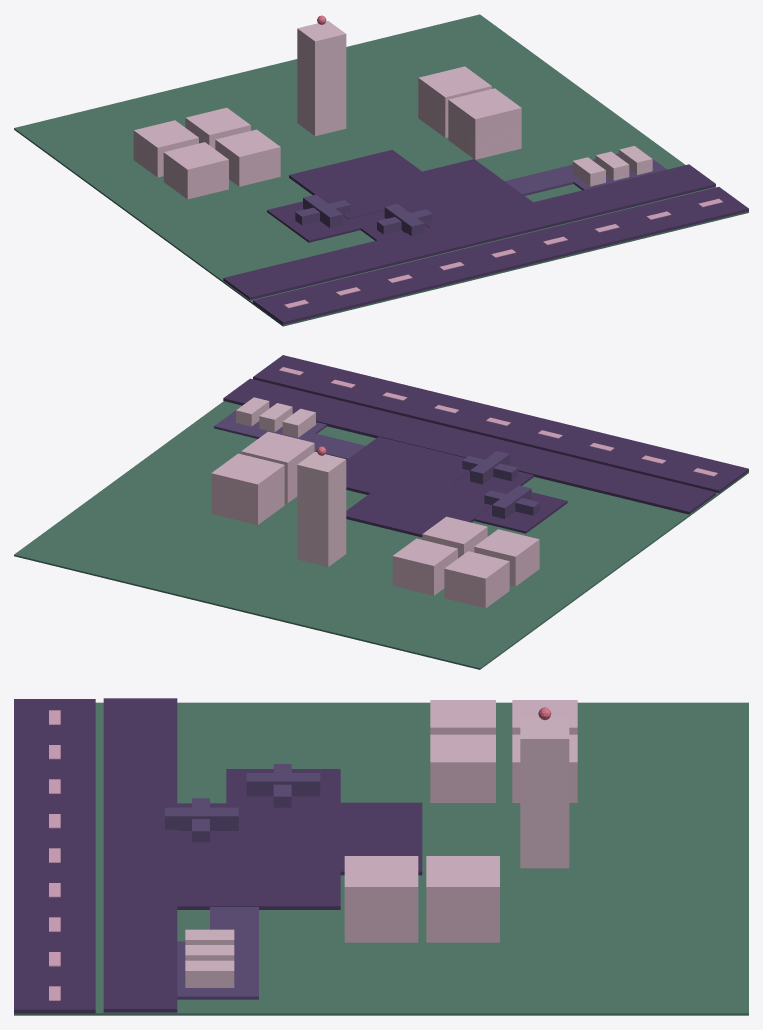
File: stage_14.glb
3 renders of one model, top to bottom at view 1: azimuth 30°, elevation 25°; view 2: azimuth 150°, elevation 25°; view 3: azimuth 270°, elevation 25°, orthographic. The views are drawn at different scales.
Parts seen in each view (by area): view 1: geometry_0; view 2: geometry_0; view 3: geometry_0.
Part boxes in pixels (x1,y1,x2,y2): geometry_0: (14,14,748,326); geometry_0: (14,355,748,669); geometry_0: (14,698,748,1015).
Bounding box in the file's own units: 9 × 2.06 × 9.
